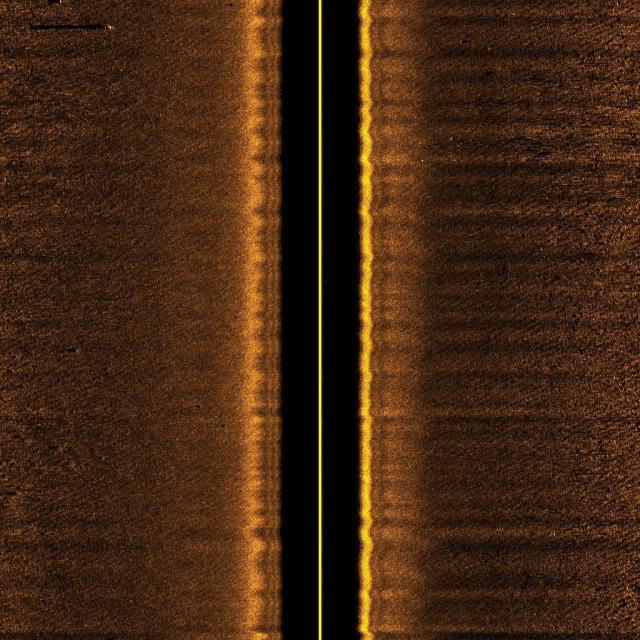mine: (32, 16, 122, 35), (44, 0, 64, 6)
